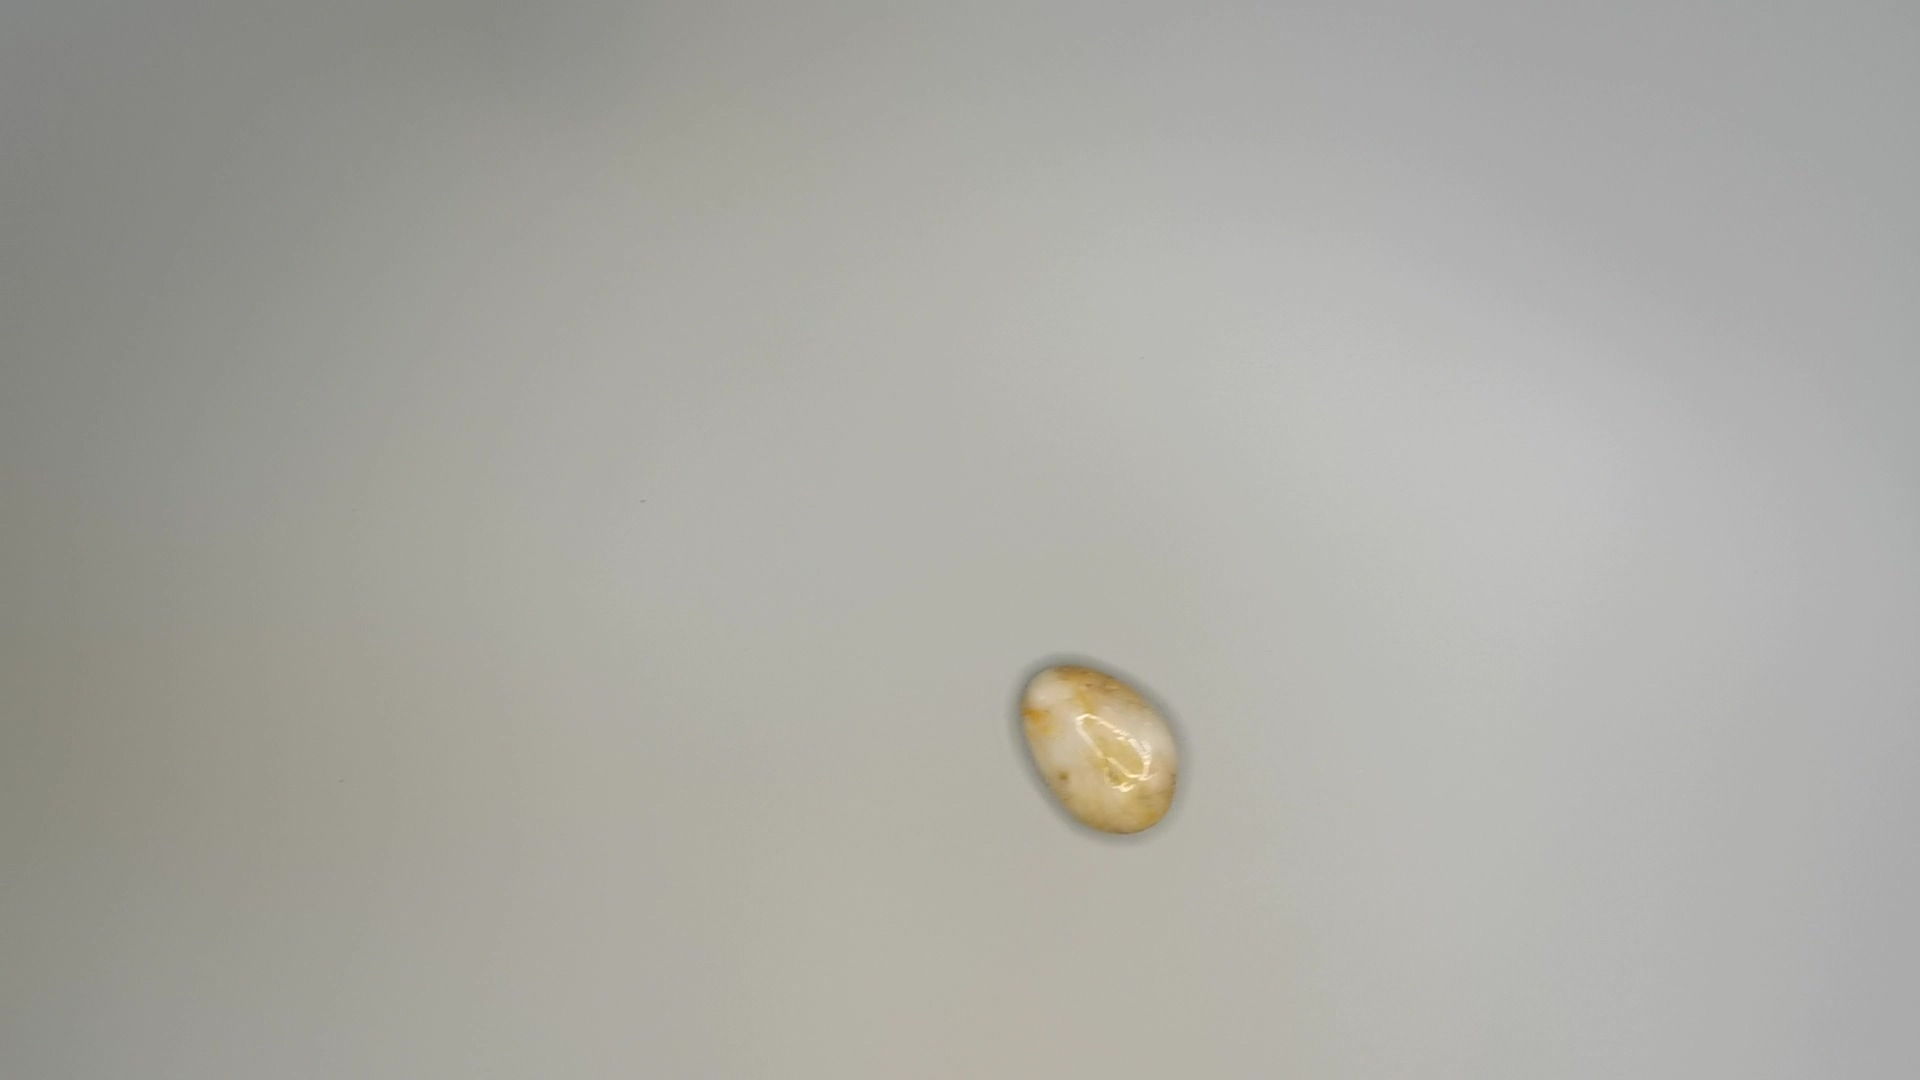ceramic: (1004, 658, 1182, 853)
